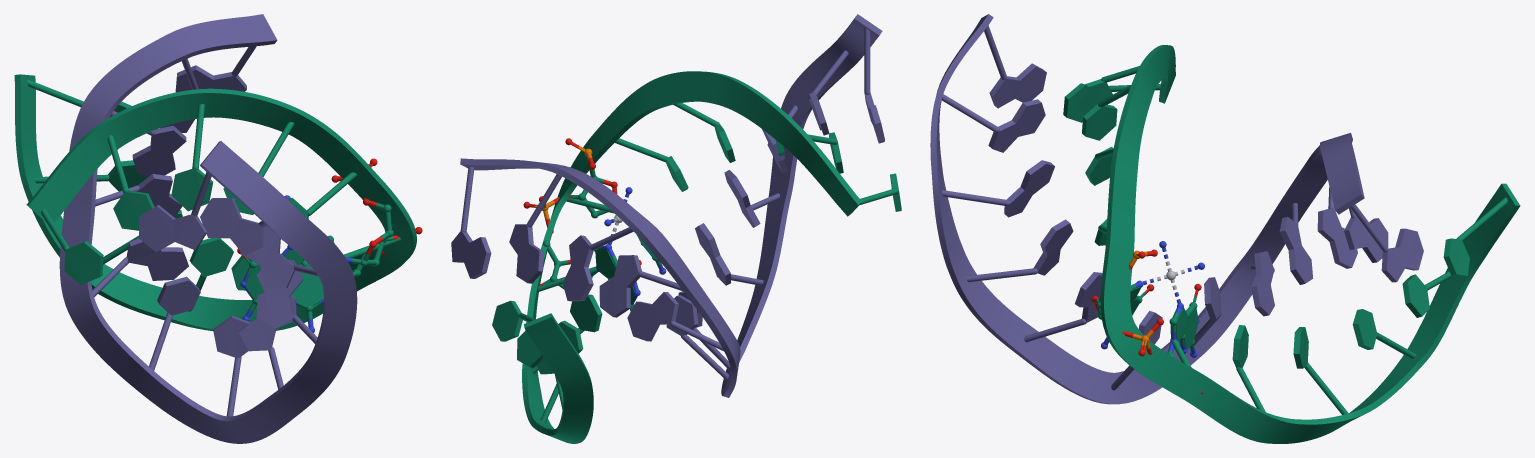
Rendered from cisplatin-dna-mix.glb.
The picture shows the model from 3 angles, left to right: view 1: azimuth 30°, elevation 25°; view 2: azimuth 150°, elevation 25°; view 3: azimuth 270°, elevation 25°; orthographic projection. The views are drawn at different scales.
Bounding box in the file's own units: 27.12 × 24.99 × 37.52.
